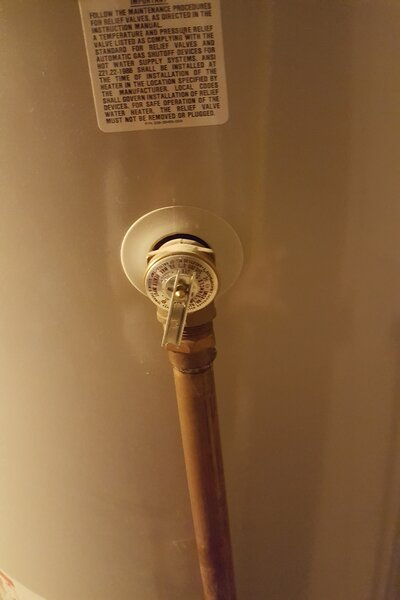valve: (143, 238, 223, 377)
